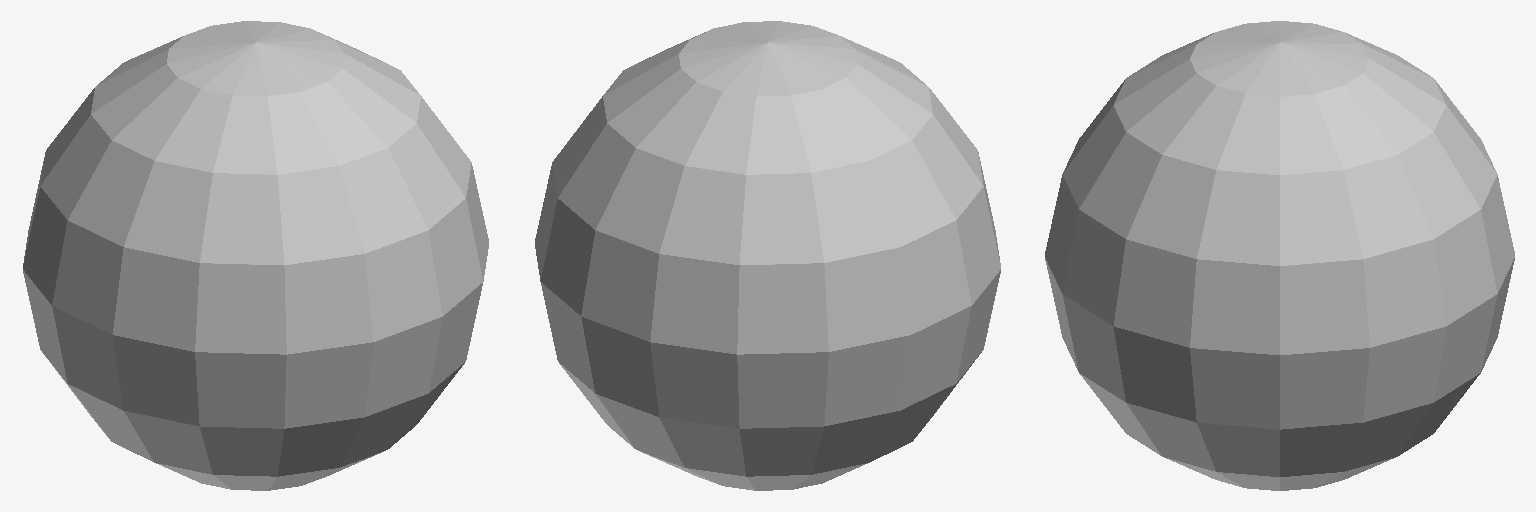
The model's file is lowPolySphere.obj.
The picture shows the model from 3 angles: view 1: azimuth 30°, elevation 25°; view 2: azimuth 150°, elevation 25°; view 3: azimuth 270°, elevation 25°; orthographic projection.
Parts seen in each view (by area): view 1: Sphere; view 2: Sphere; view 3: Sphere.
Part boxes in pixels (x1,y1,x2,y2): Sphere: (23, 21, 488, 490); Sphere: (535, 21, 1000, 490); Sphere: (1045, 21, 1514, 490).
Bounding box in the file's own units: 1 × 1 × 1.